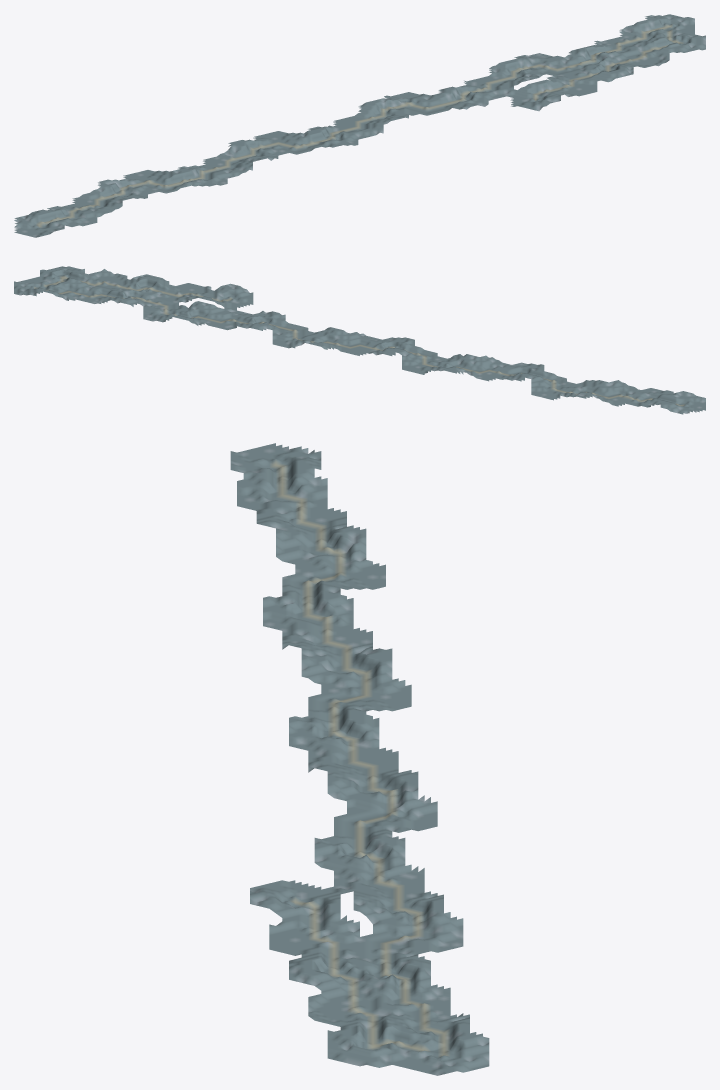
Rendered from terrain.glb.
The picture shows the model from 3 angles, top to bottom: view 1: azimuth 30°, elevation 25°; view 2: azimuth 150°, elevation 25°; view 3: azimuth 270°, elevation 25°; orthographic projection. The views are drawn at different scales.
Parts seen in each view (by area): view 1: NATURAL_13_-2, NATURAL_3_-1, NATURAL_14_-2, NATURAL_10_-2, NATURAL_9_-2, NATURAL_12_-1, NATURAL_15_-2, NATURAL_4_-1, NATURAL_2_-1, NATURAL_12_-2, NATURAL_11_-1, NATURAL_13_-1 (+18 smaller); view 2: NATURAL_15_-2, NATURAL_12_-2, NATURAL_13_-2, NATURAL_1_-1, NATURAL_3_-1, NATURAL_4_-1, NATURAL_13_-1, NATURAL_11_-1, NATURAL_14_-2, NATURAL_5_-1, NATURAL_11_-2, NATURAL_2_-1 (+18 smaller); view 3: NATURAL_14_-2, NATURAL_4_-1, NATURAL_12_-1, NATURAL_2_-1, NATURAL_15_-2, NATURAL_13_-2, NATURAL_12_-2, NATURAL_9_-2, NATURAL_11_-2, NATURAL_3_-1, NATURAL_7_-1, NATURAL_10_-2 (+17 smaller).
Boxes of the visible parts, bbox=[...] form: NATURAL_13_-2: bbox=[518, 55, 600, 76]; NATURAL_3_-1: bbox=[126, 170, 212, 193]; NATURAL_14_-2: bbox=[569, 44, 644, 66]; NATURAL_10_-2: bbox=[388, 87, 473, 109]; NATURAL_9_-2: bbox=[358, 96, 430, 119]; NATURAL_12_-1: bbox=[525, 76, 597, 96]; NATURAL_15_-2: bbox=[608, 34, 683, 56]; NATURAL_4_-1: bbox=[177, 162, 252, 182]; NATURAL_2_-1: bbox=[87, 180, 158, 200]; NATURAL_12_-2: bbox=[478, 62, 556, 84]; NATURAL_11_-1: bbox=[474, 86, 560, 106]; NATURAL_13_-1: bbox=[565, 65, 633, 86]; NATURAL_15_-2: bbox=[62, 269, 101, 299]; NATURAL_12_-2: bbox=[179, 299, 217, 327]; NATURAL_13_-2: bbox=[140, 289, 178, 315]; NATURAL_1_-1: bbox=[605, 381, 644, 406]; NATURAL_3_-1: bbox=[528, 366, 566, 393]; NATURAL_4_-1: bbox=[489, 357, 527, 381]; NATURAL_13_-1: bbox=[140, 274, 178, 300]; NATURAL_11_-1: bbox=[217, 288, 256, 316]; NATURAL_14_-2: bbox=[101, 281, 139, 306]; NATURAL_5_-1: bbox=[450, 354, 489, 376]; NATURAL_11_-2: bbox=[217, 307, 256, 330]; NATURAL_2_-1: bbox=[567, 380, 605, 401]; NATURAL_14_-2: bbox=[353, 954, 430, 1013]; NATURAL_4_-1: bbox=[276, 591, 353, 649]; NATURAL_12_-1: bbox=[276, 897, 353, 954]; NATURAL_2_-1: bbox=[276, 520, 353, 573]; NATURAL_15_-2: bbox=[353, 992, 430, 1048]; NATURAL_13_-2: bbox=[353, 911, 430, 975]; NATURAL_12_-2: bbox=[353, 883, 430, 936]; NATURAL_9_-2: bbox=[353, 770, 430, 825]; NATURAL_11_-2: bbox=[353, 842, 424, 894]; NATURAL_3_-1: bbox=[276, 554, 353, 613]; NATURAL_7_-1: bbox=[289, 705, 353, 759]; NATURAL_10_-2: bbox=[353, 803, 430, 858].
Size of the model in its own units: 376 by 2.9 by 64.8.
